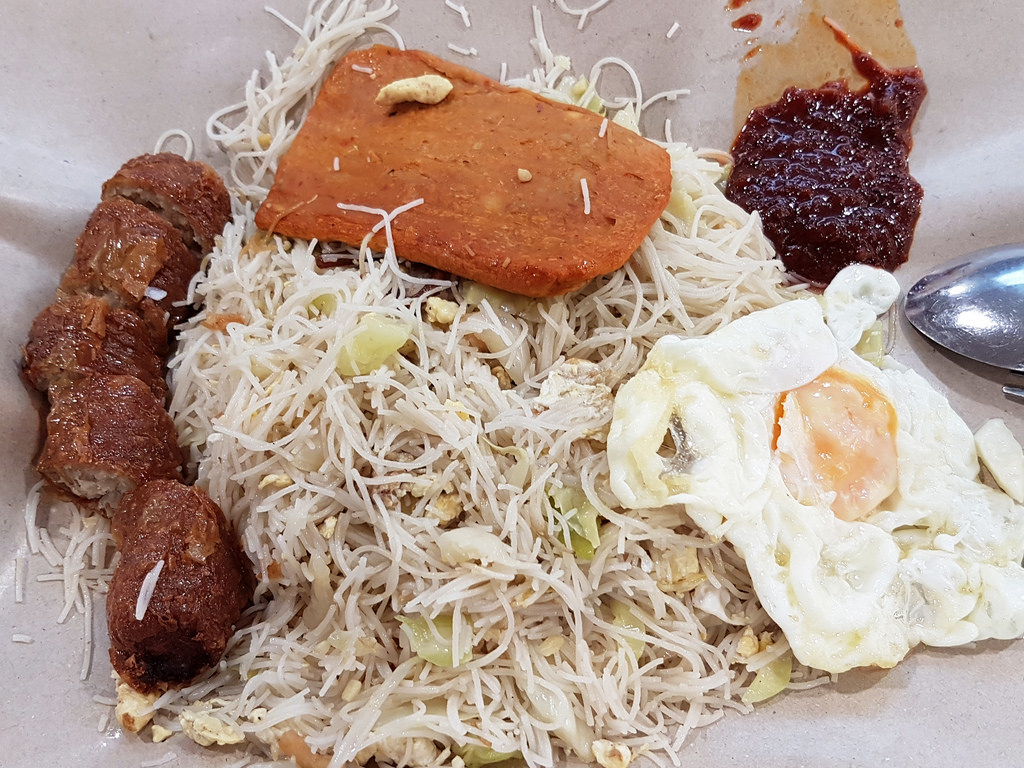fried egg: (681, 314, 1009, 679)
plain spaghetti: (232, 320, 622, 722)
slice of bread: (311, 43, 647, 273)
